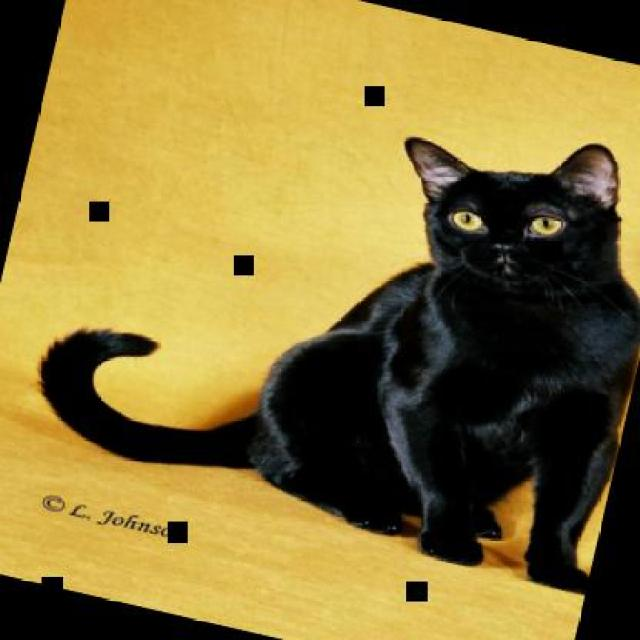cat: (14, 31, 638, 598)
